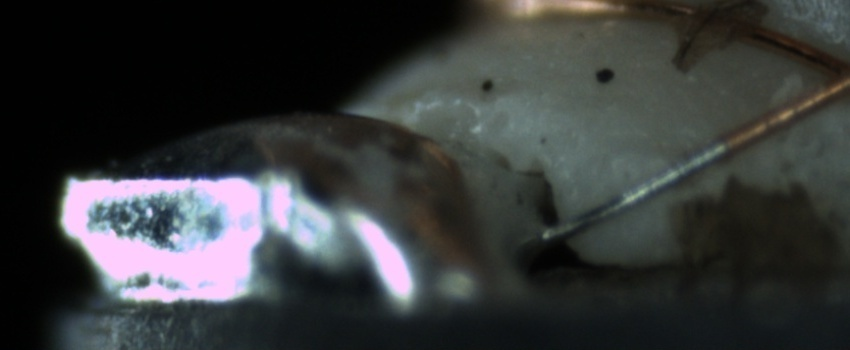CL: (804, 38, 850, 108)
DL: (586, 129, 749, 178)
TS: (538, 140, 731, 243)
